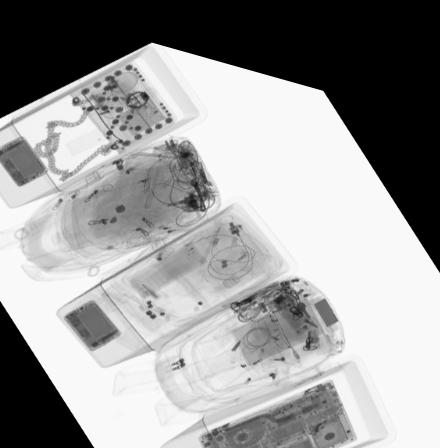Lighter: (142, 157, 153, 183)
